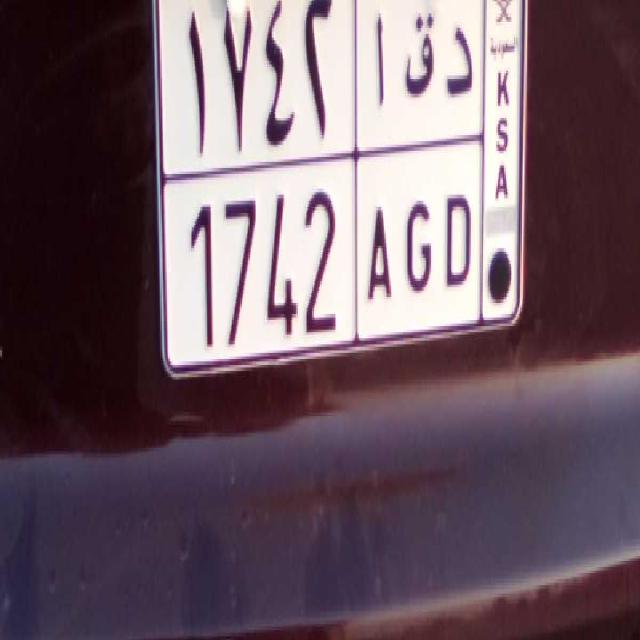license_plate: (160, 172, 487, 374)
